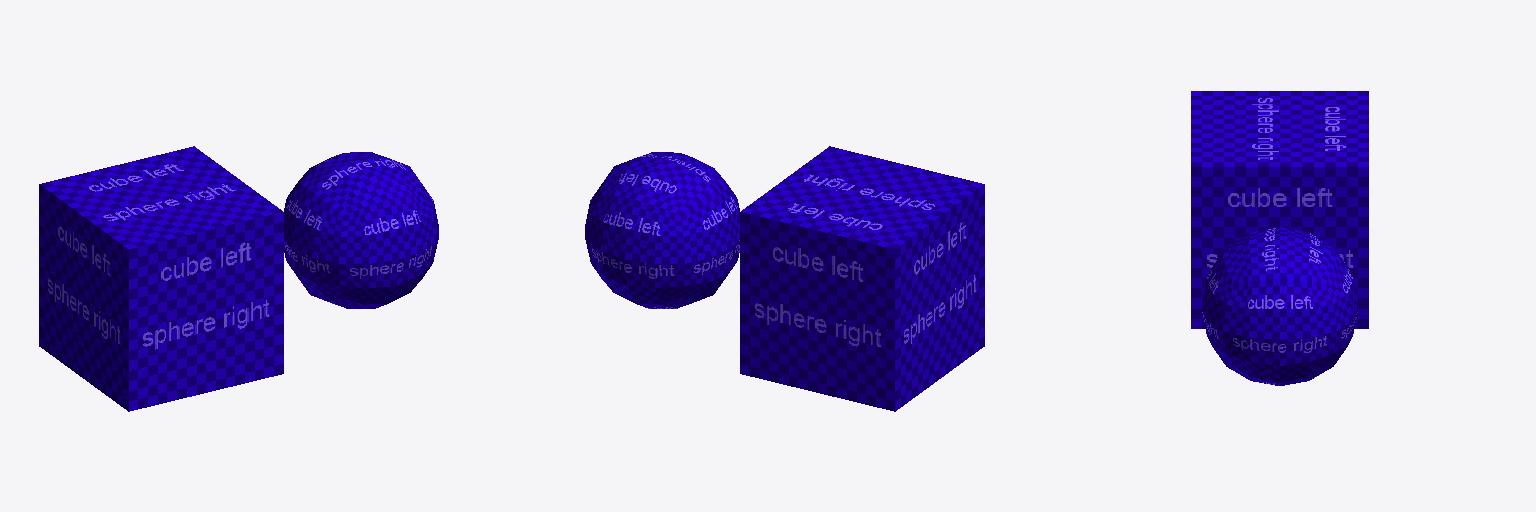
3 views of the same model, side by side, from view 1: azimuth 30°, elevation 25°; view 2: azimuth 150°, elevation 25°; view 3: azimuth 270°, elevation 25° (orthographic).
Visible parts, largest first — view 1: 02_-_Default; view 2: 02_-_Default; view 3: 02_-_Default.
Boxes of the visible parts, <box> form: 02_-_Default: <box>39,146,438,411</box>; 02_-_Default: <box>585,146,984,411</box>; 02_-_Default: <box>1191,91,1368,385</box>.
Size of the model in its own units: 111 by 50 by 50.
1 materials, 1 textured.